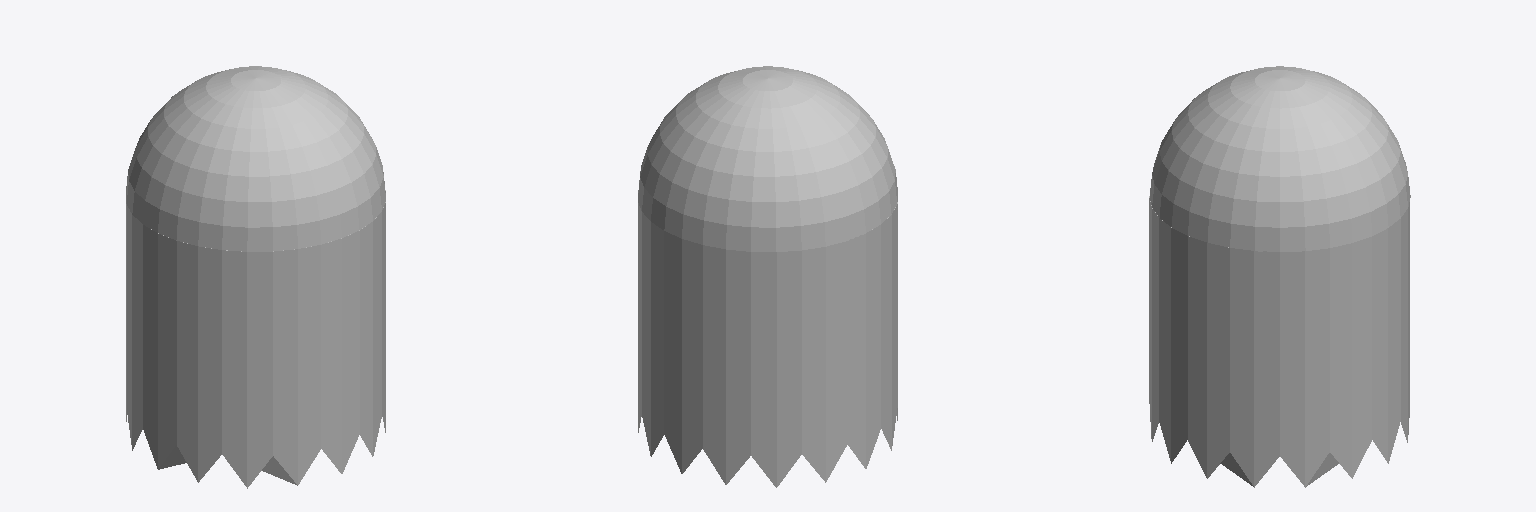
File: spookje.obj
The picture shows the model from 3 angles: view 1: azimuth 30°, elevation 25°; view 2: azimuth 150°, elevation 25°; view 3: azimuth 270°, elevation 25°; orthographic projection.
Visible parts, largest first — view 1: Cylinder; view 2: Cylinder; view 3: Cylinder.
Boxes of the visible parts, x1,y1,x2,y2 form: Cylinder: [126, 66, 385, 488]; Cylinder: [638, 66, 897, 487]; Cylinder: [1149, 66, 1410, 487].
Size of the model in its own units: 2 by 3 by 2.